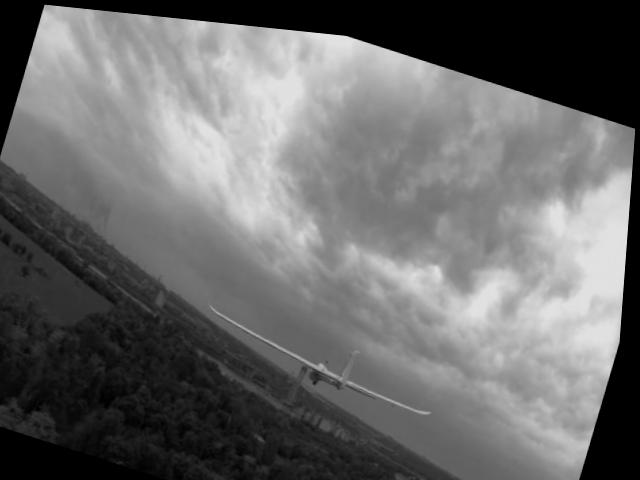hedef: (203, 289, 447, 439)
